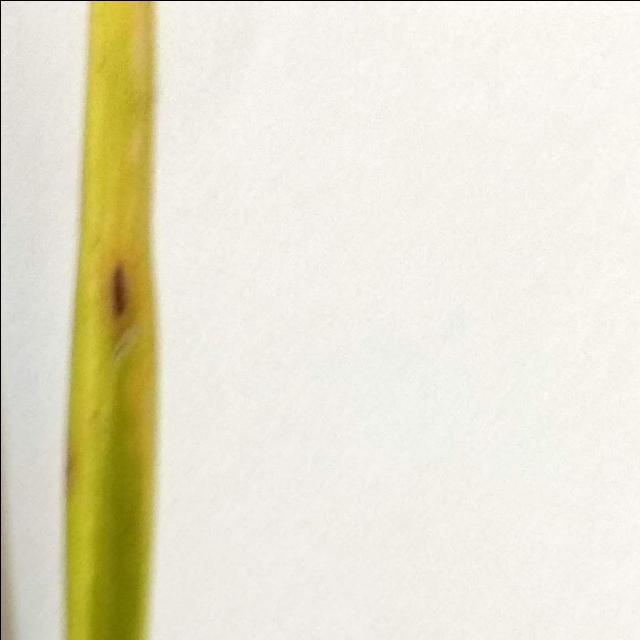Brown spot: (27, 0, 264, 640)
